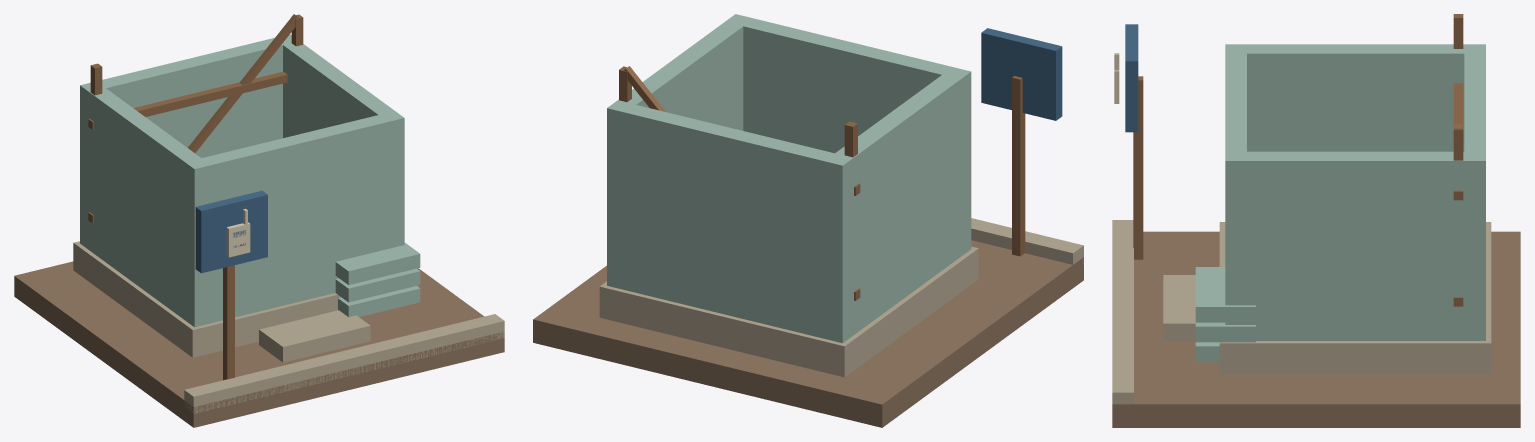
File: police-station-seabreeze-half-built.glb
3 renders of one model, left to right at view 1: azimuth 30°, elevation 25°; view 2: azimuth 150°, elevation 25°; view 3: azimuth 270°, elevation 25°, orthographic. The views are drawn at different scales.
Parts seen in each view (by area): view 1: police-station; view 2: police-station; view 3: police-station.
Part boxes in pixels (x1,y1,x2,y2): police-station: (14,14,504,427); police-station: (533,14,1083,427); police-station: (1112,14,1520,427).
Bounding box in the file's own units: 1.88 × 1.38 × 1.88.
